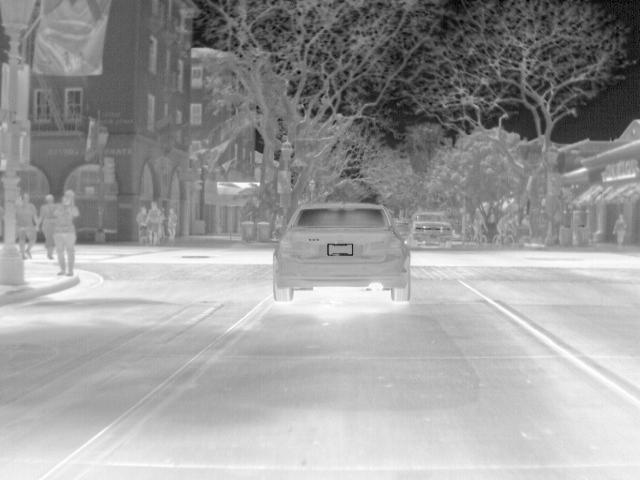car: (274, 205, 416, 300), (410, 210, 456, 249)
person: (53, 193, 79, 278), (14, 190, 38, 258), (40, 191, 59, 259), (144, 204, 164, 248), (611, 211, 629, 246), (134, 205, 147, 245), (168, 209, 180, 243)
